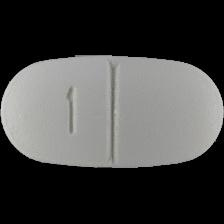52125-816: (0, 0, 224, 224)
